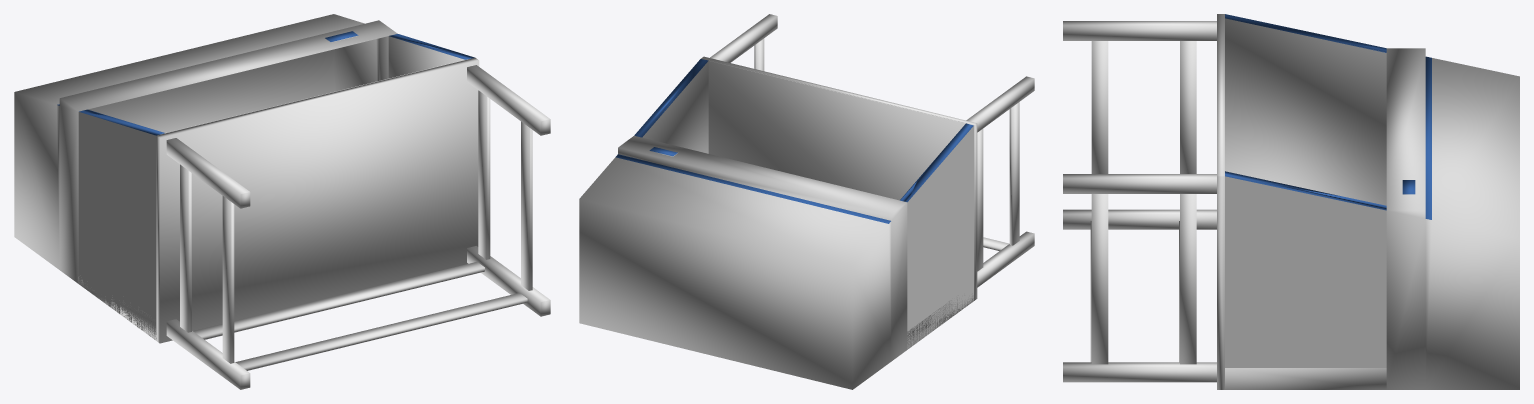
3 renders of one model, left to right at view 1: azimuth 30°, elevation 25°; view 2: azimuth 150°, elevation 25°; view 3: azimuth 270°, elevation 25°, orthographic. The views are drawn at different scales.
Visible parts, largest first — view 1: Cube; view 2: Cube; view 3: Cube.
Part boxes in pixels (x1=…): Cube: x1=14, y1=14, x2=550, y2=389; Cube: x1=579, y1=14, x2=1034, y2=389; Cube: x1=1063, y1=14, x2=1519, y2=389.
Size of the model in its own units: 130 by 79.94 by 155.
